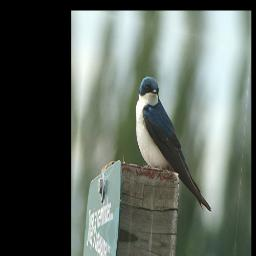Swallow: (129, 73, 221, 214)
